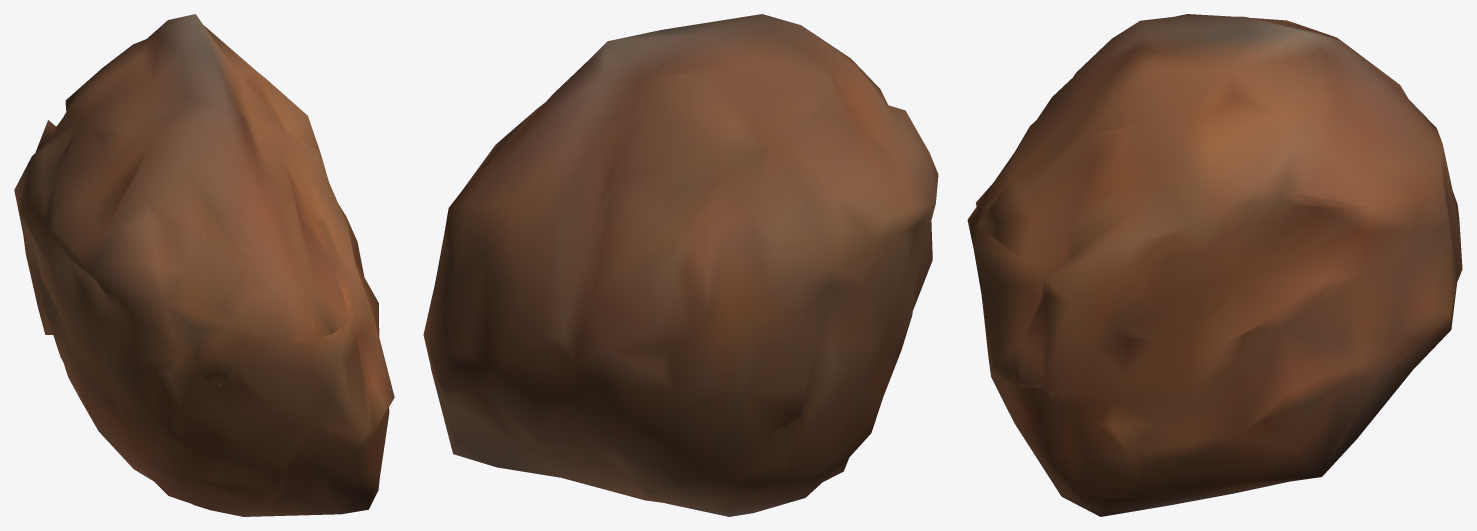
Rendered from gem_burrow.glb.
3 views of the same model, side by side, from view 1: azimuth 30°, elevation 25°; view 2: azimuth 150°, elevation 25°; view 3: azimuth 270°, elevation 25° (orthographic). The views are drawn at different scales.
Visible parts, largest first — view 1: model; view 2: model; view 3: model.
Boxes of the visible parts, <box> form: model: <box>14,14,394,516</box>; model: <box>423,14,938,516</box>; model: <box>967,14,1462,516</box>.
Size of the model in its own units: 0.3104 by 0.3969 by 0.3987.
1 material, 1 textured.
